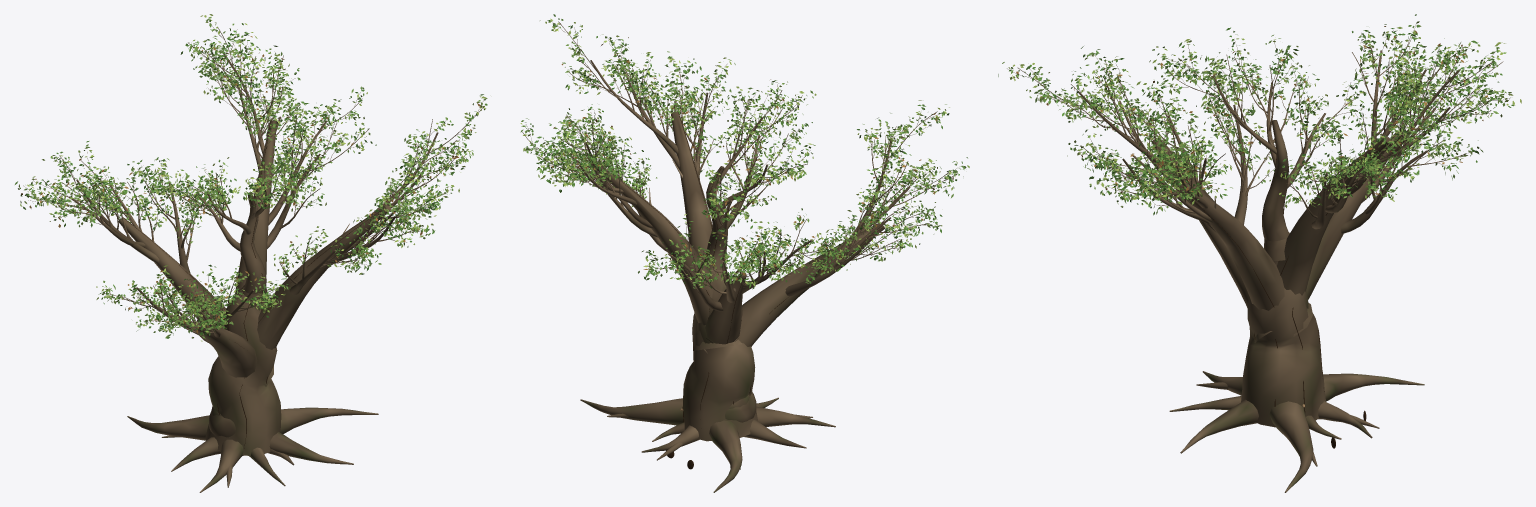
The model's file is ancient_tree_03_lod1.glb.
3 views of the same model, side by side, from view 1: azimuth 30°, elevation 25°; view 2: azimuth 150°, elevation 25°; view 3: azimuth 270°, elevation 25° (orthographic). The views are drawn at different scales.
Visible parts, largest first — view 1: AncientTreeWood_LOD1, AncientLeaves_LOD1, FineBranches_LOD1; view 2: AncientTreeWood_LOD1, AncientLeaves_LOD1, FineBranches_LOD1, DirectedBarkGrooves_LOD1; view 3: AncientTreeWood_LOD1, AncientLeaves_LOD1, FineBranches_LOD1.
Part boxes in pixels (<box>): AncientTreeWood_LOD1: <box>26,27,484,492</box>; AncientLeaves_LOD1: <box>15,14,487,341</box>; FineBranches_LOD1: <box>23,26,484,330</box>; AncientTreeWood_LOD1: <box>522,21,955,492</box>; AncientLeaves_LOD1: <box>520,14,969,289</box>; FineBranches_LOD1: <box>526,24,956,286</box>; DirectedBarkGrooves_LOD1: <box>601,112,882,422</box>; AncientTreeWood_LOD1: <box>1017,36,1504,492</box>; AncientLeaves_LOD1: <box>998,14,1521,215</box>; FineBranches_LOD1: <box>1007,25,1509,208</box>.
Size of the model in its own units: 24.65 by 22.43 by 25.15.
